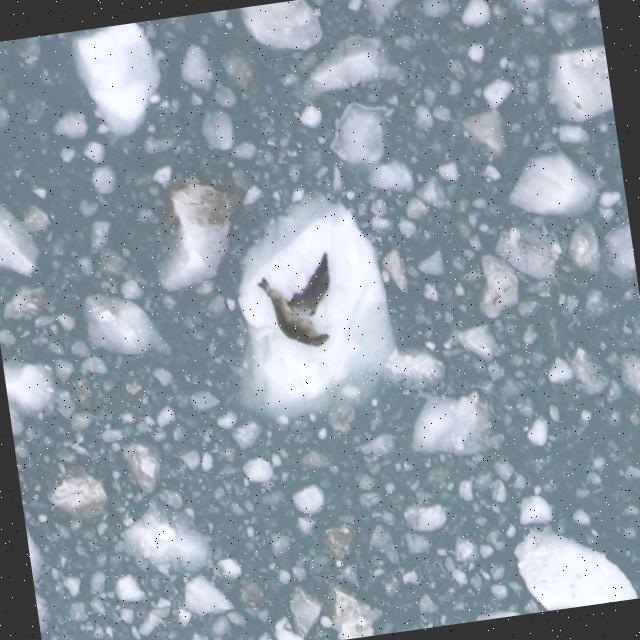seal: (252, 268, 332, 357), (278, 248, 337, 322)
